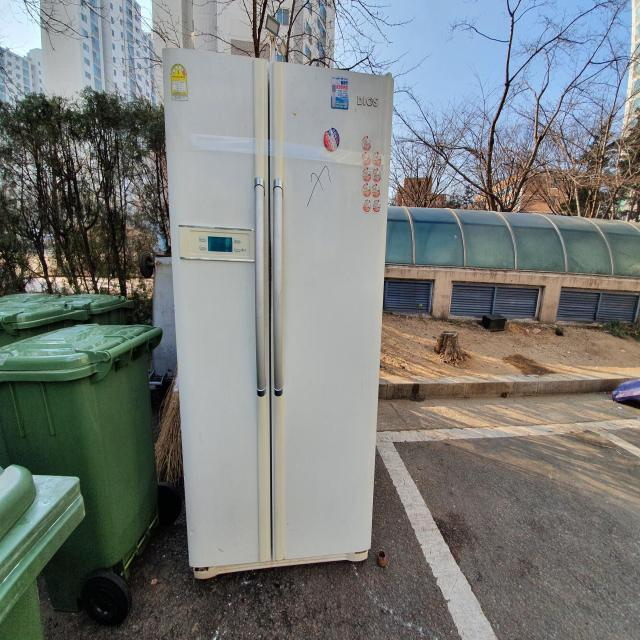refrigerator: (163, 45, 395, 582)
